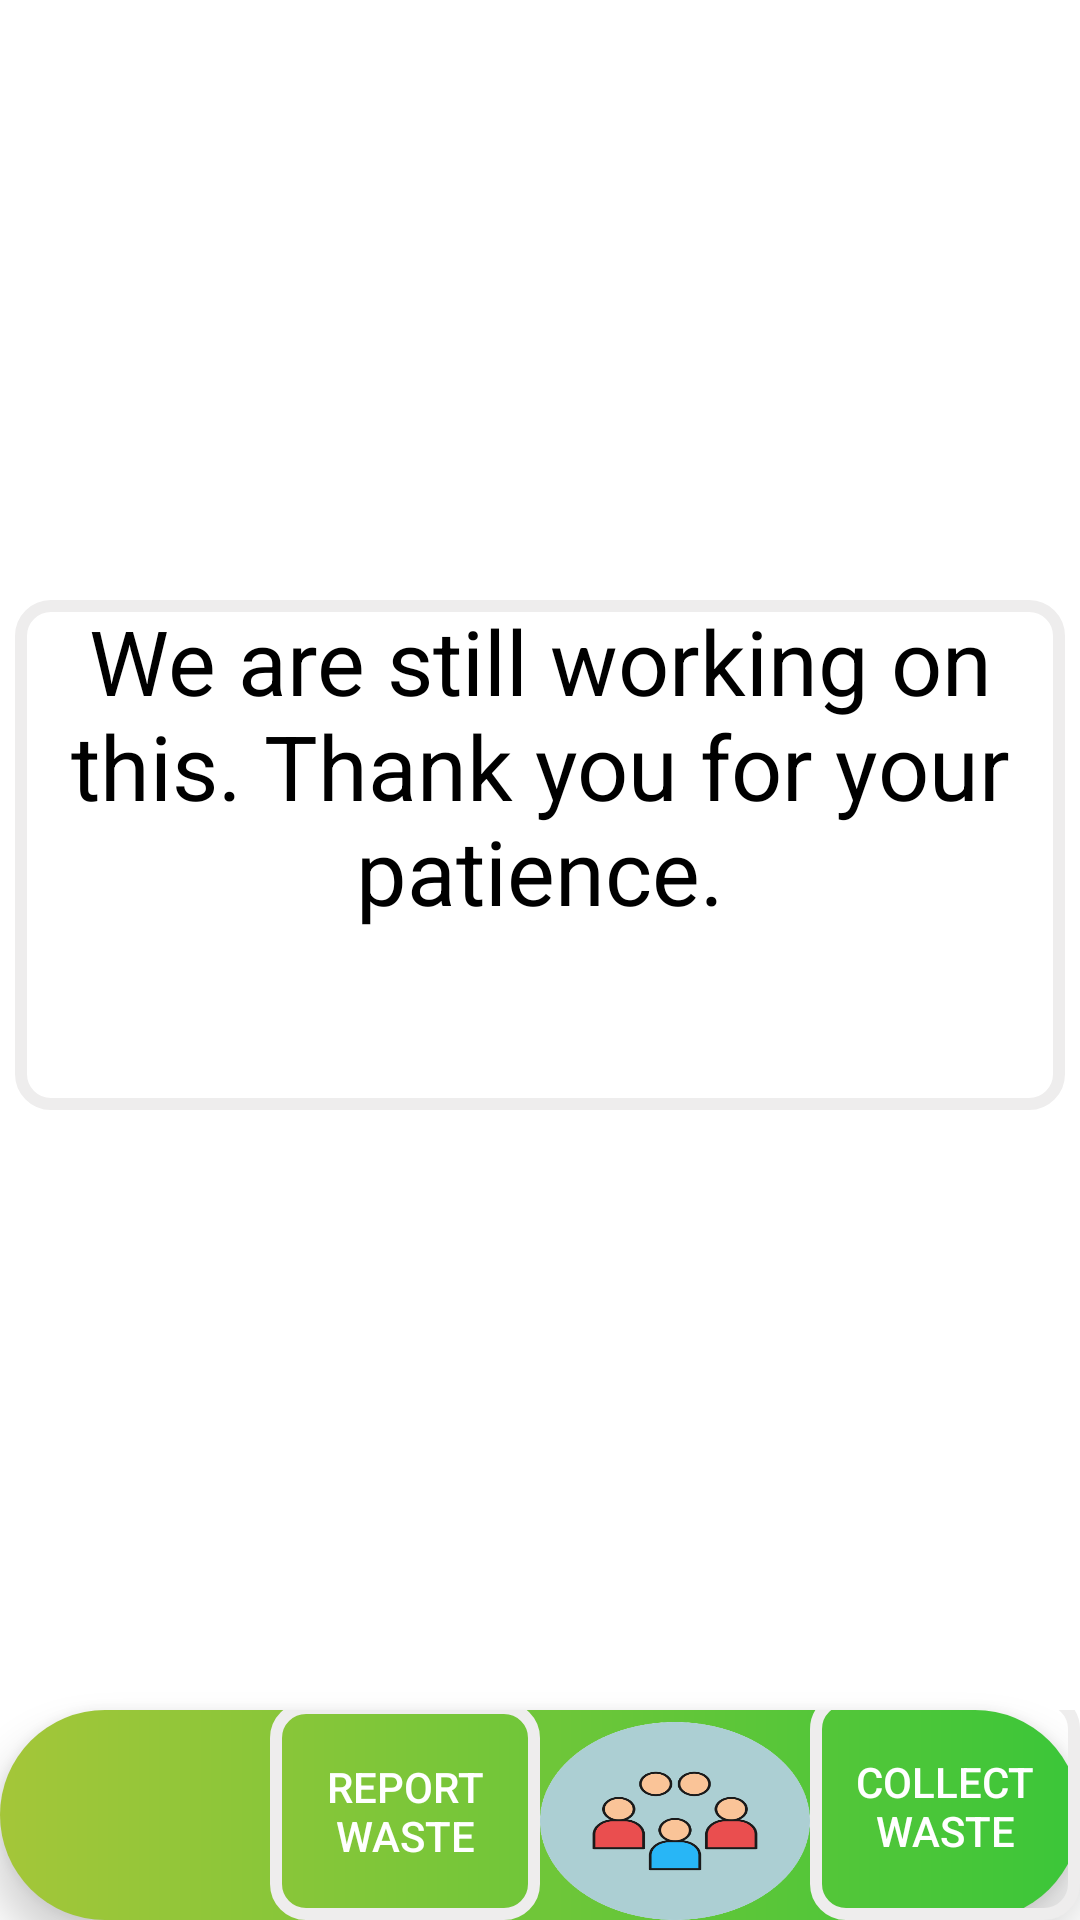

Icons on this 1080 × 1920 Android screen, each with the point to tap as (x=x, y=y):
fam: (x=675, y=1821)
